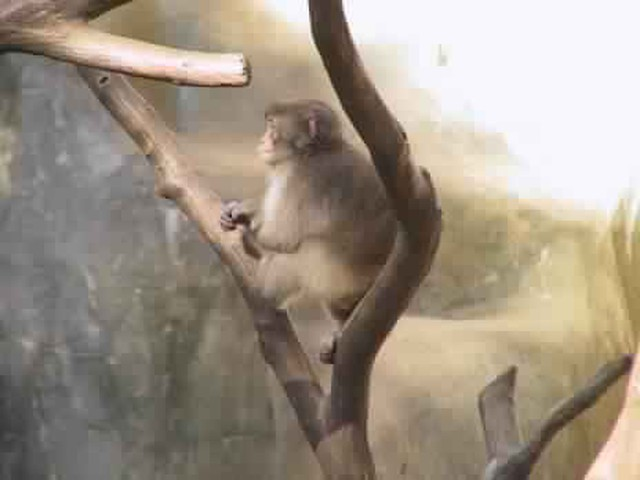Monkey: (226, 97, 387, 316)
